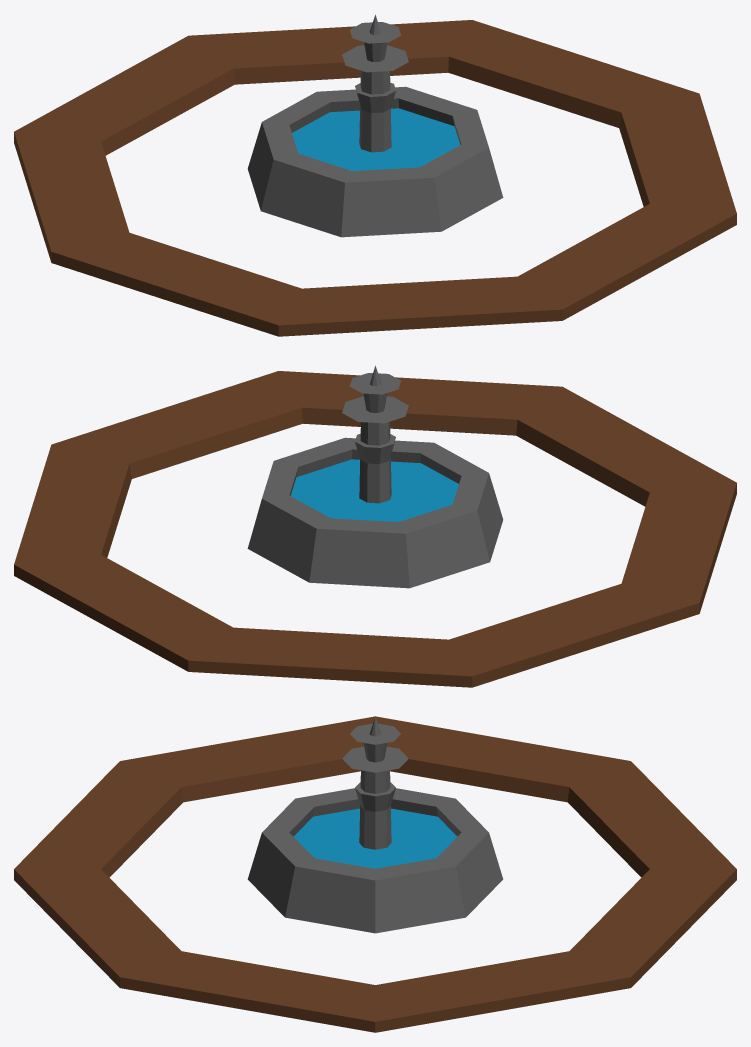
File: Fountain.FBX
3 renders of one model, top to bottom at view 1: azimuth 30°, elevation 25°; view 2: azimuth 150°, elevation 25°; view 3: azimuth 270°, elevation 25°, orthographic. The views are drawn at different scales.
Visible parts, largest first — view 1: Cylinder006; view 2: Cylinder006; view 3: Cylinder006.
Boxes of the visible parts, x1,y1,x2,y2 form: Cylinder006: (14, 14, 736, 336); Cylinder006: (14, 365, 736, 687); Cylinder006: (14, 716, 736, 1032).
Bounding box in the file's own units: 40.7 × 10.4 × 40.7.
